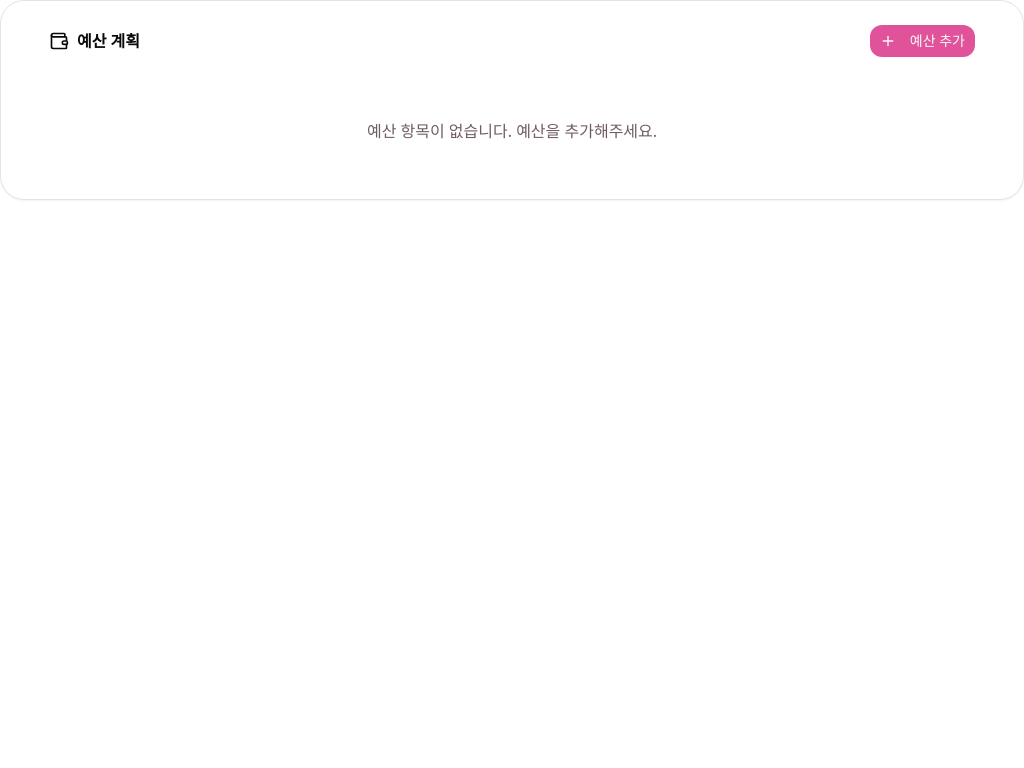
Test: BudgetPlanner › 예산 추가 버튼을 클릭하면 다이얼로그가 열려야 함
Step 1. Click the button "예산 추가" → click(922, 41), box top-left (870, 25), bottom-right (975, 57)
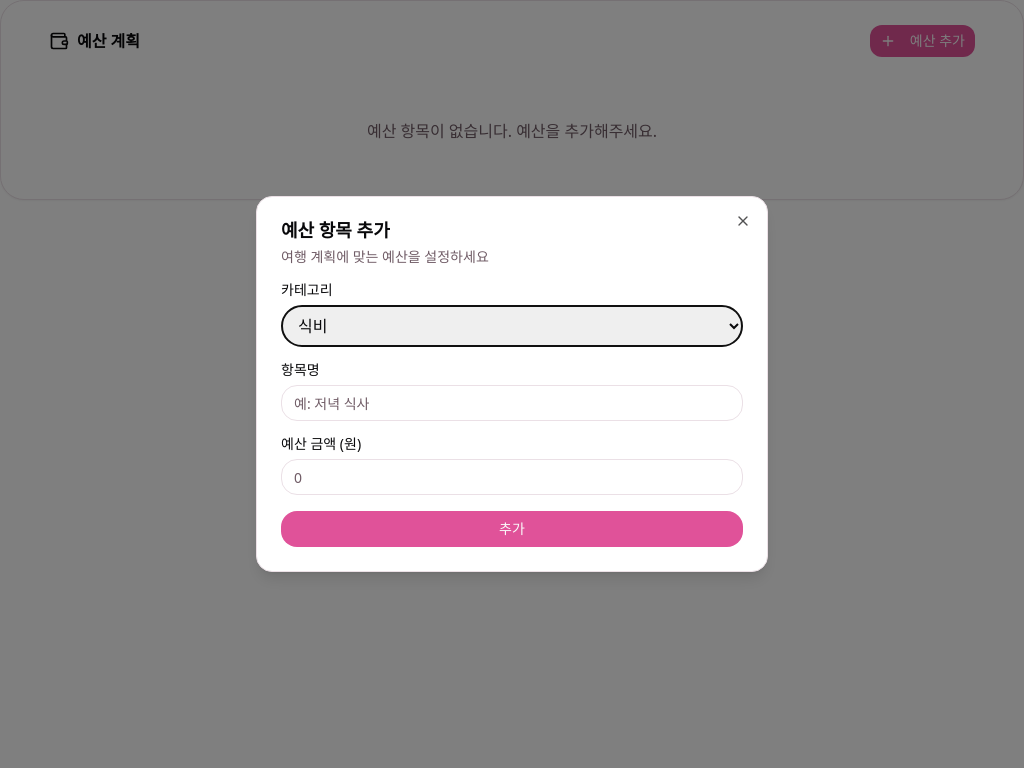
Expected: the heading "예산 항목 추가" is shown, top-left (281, 218), bottom-right (390, 242)
